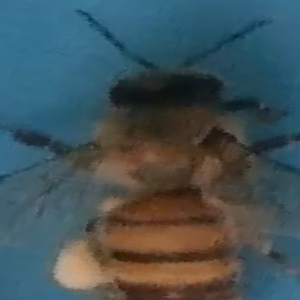bee: (10, 41, 300, 299)
